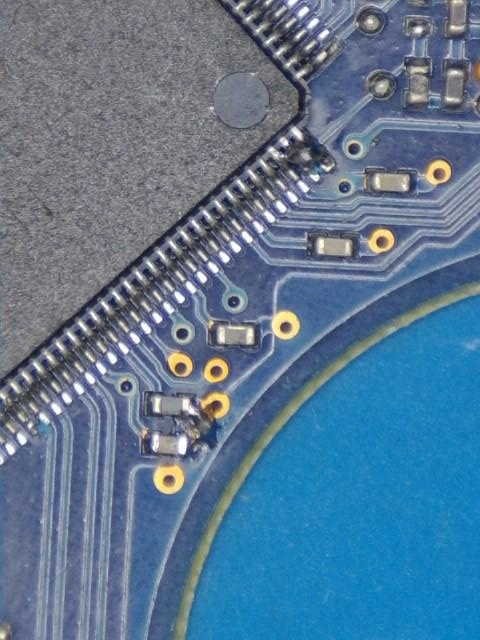pcb_defect: (266, 125, 335, 193), (172, 399, 199, 455)
